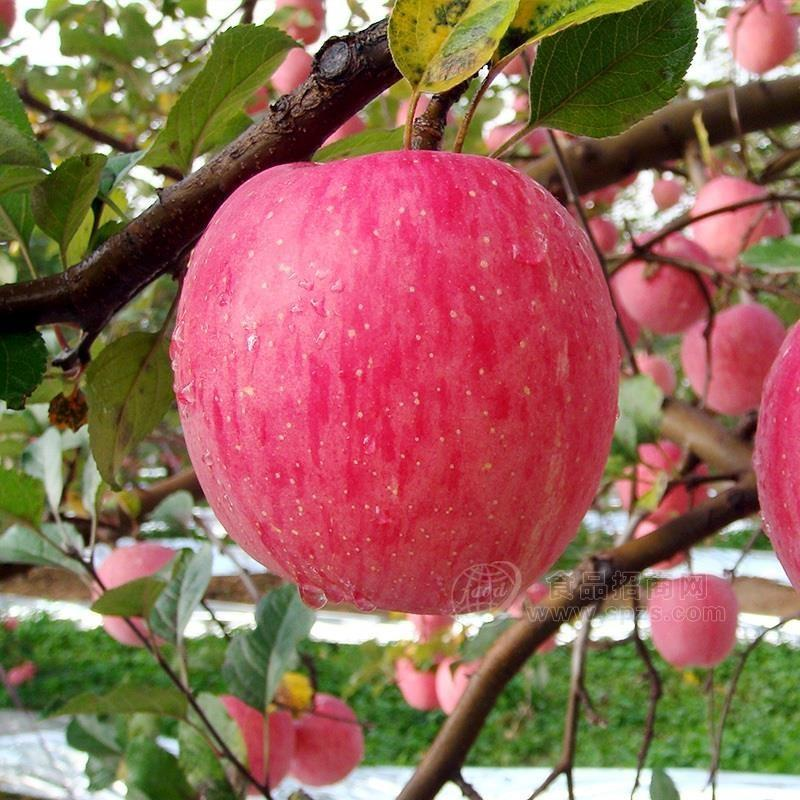apple: (174, 142, 630, 615)
